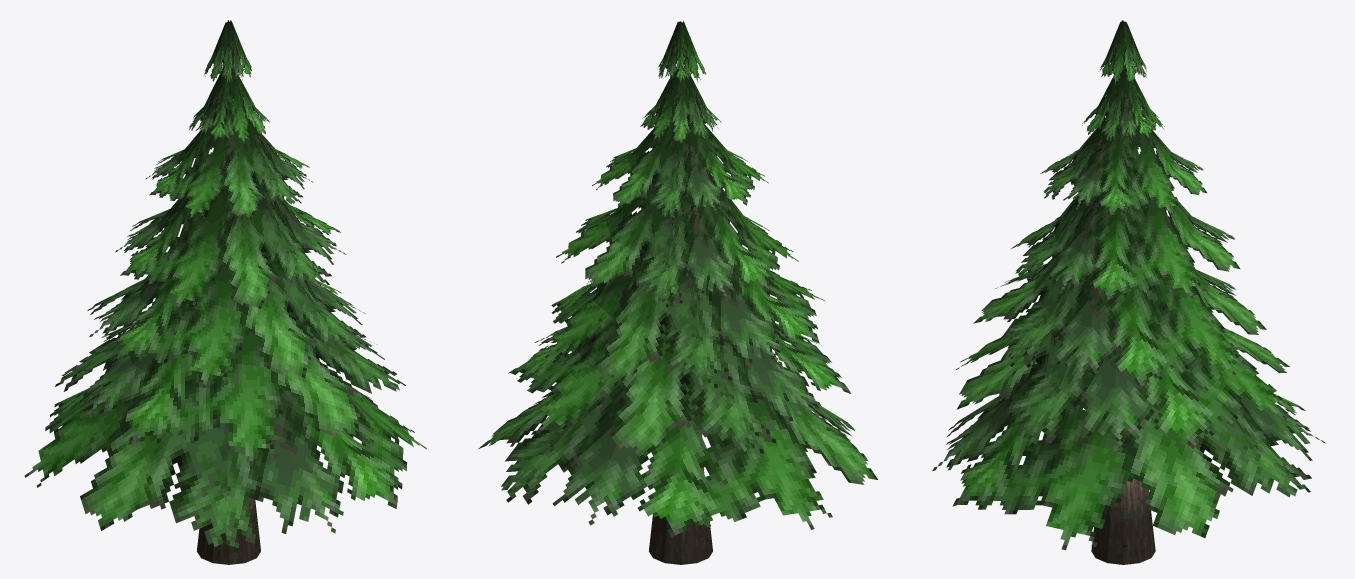
The model's file is pine_tree.glb.
The picture shows the model from 3 angles, left to right: view 1: azimuth 30°, elevation 25°; view 2: azimuth 150°, elevation 25°; view 3: azimuth 270°, elevation 25°; orthographic projection.
Visible parts, largest first — view 1: pine_tree; view 2: pine_tree; view 3: pine_tree.
Part boxes in pixels (<box>): pine_tree: <box>24,20,426,564</box>; pine_tree: <box>478,20,877,564</box>; pine_tree: <box>932,20,1325,564</box>.
Bounding box in the file's own units: 10.8 × 15.12 × 10.78.
Materials: 1 (1 with a texture image).
